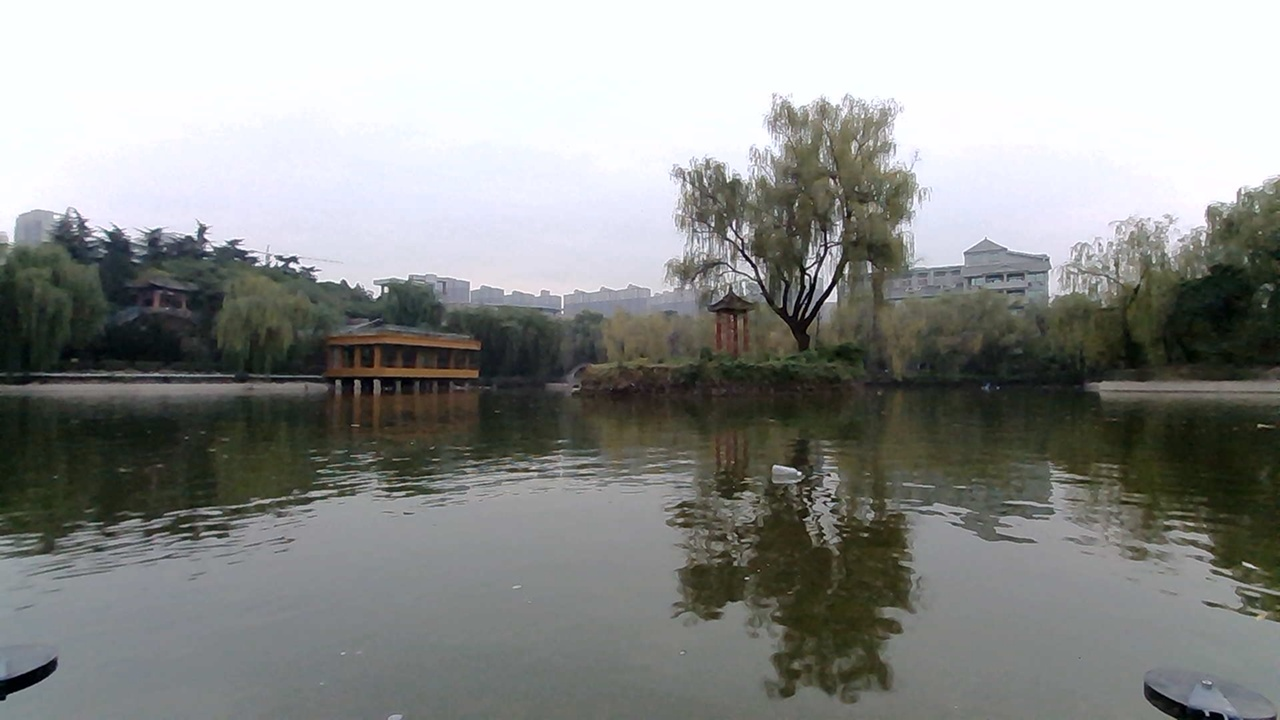bottle: (751, 454, 815, 487)
